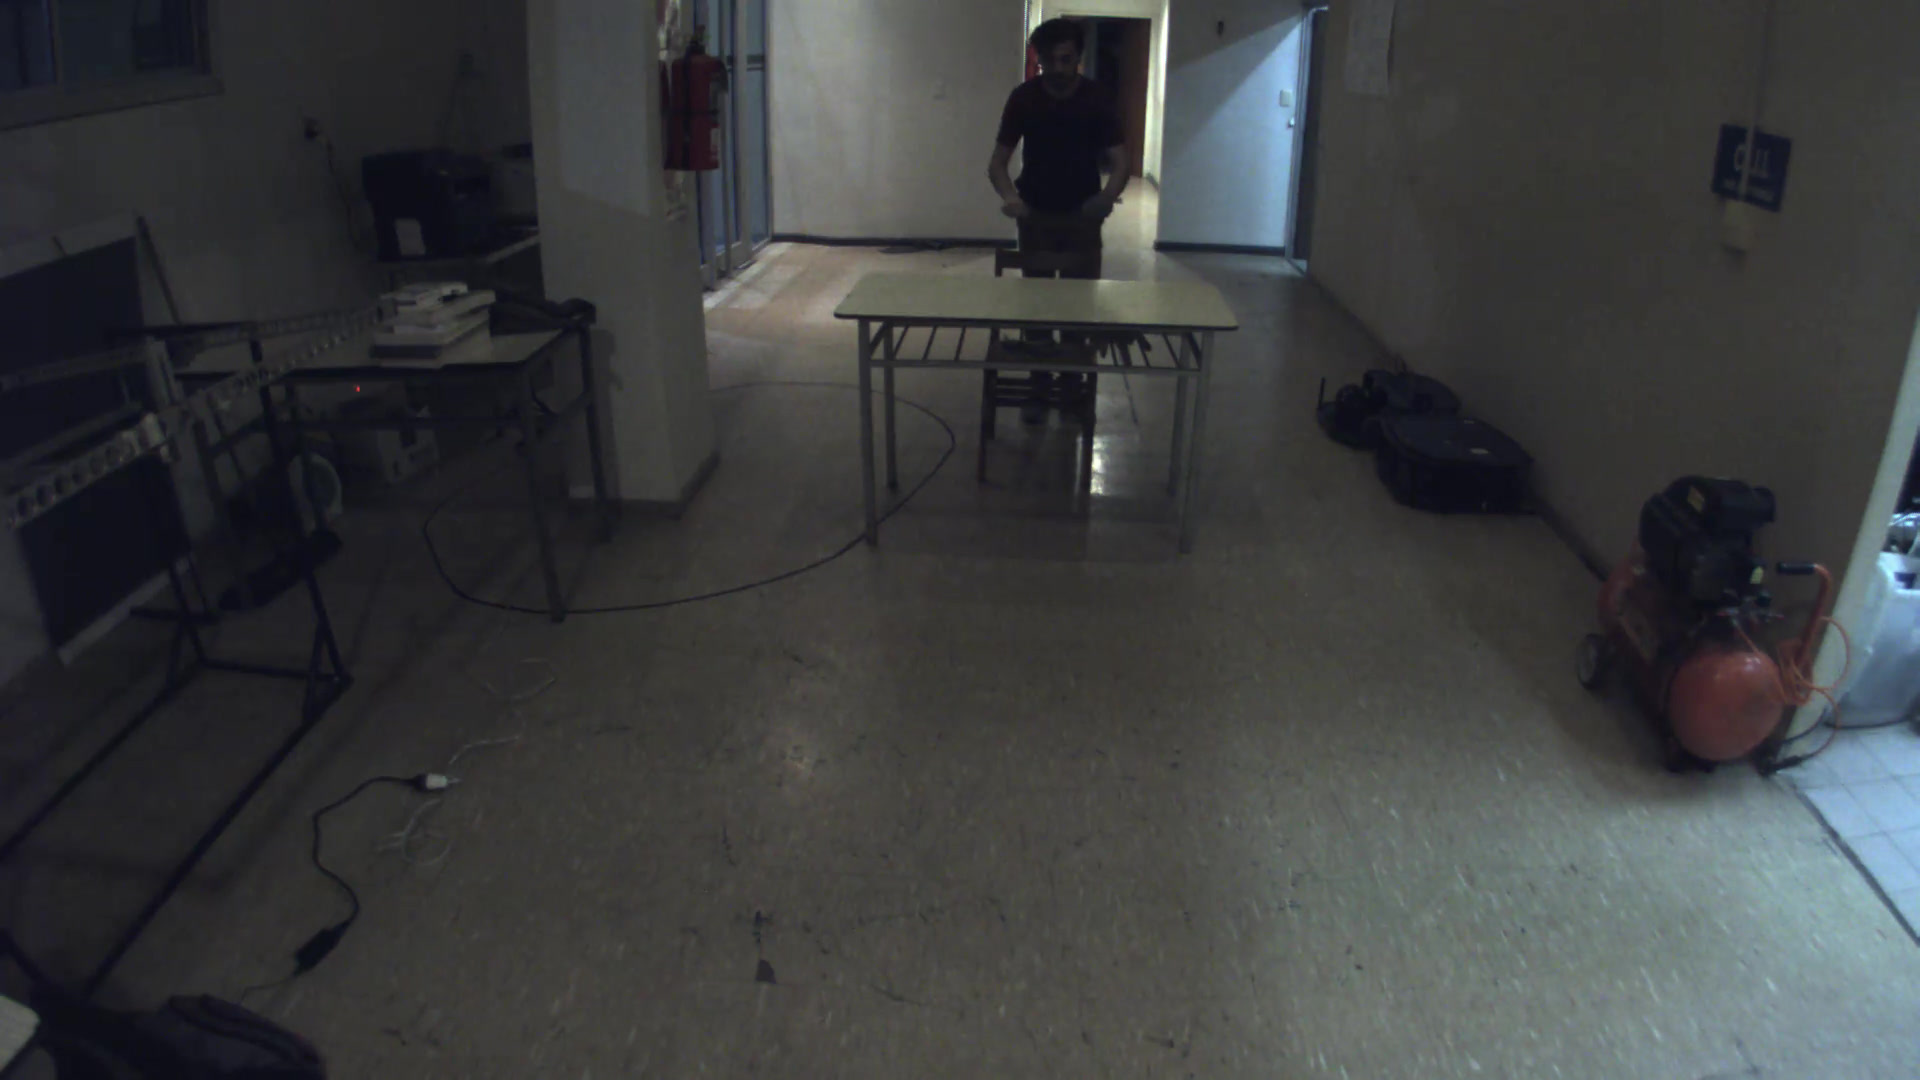hand: (1068, 190, 1125, 229), (992, 189, 1039, 228)
